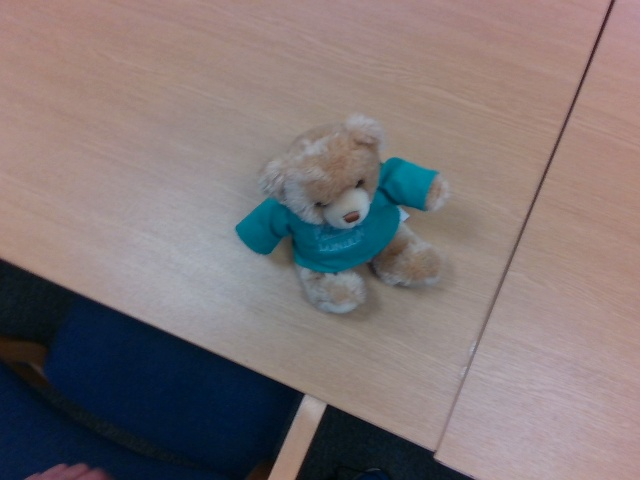teddy: (233, 108, 450, 318)
